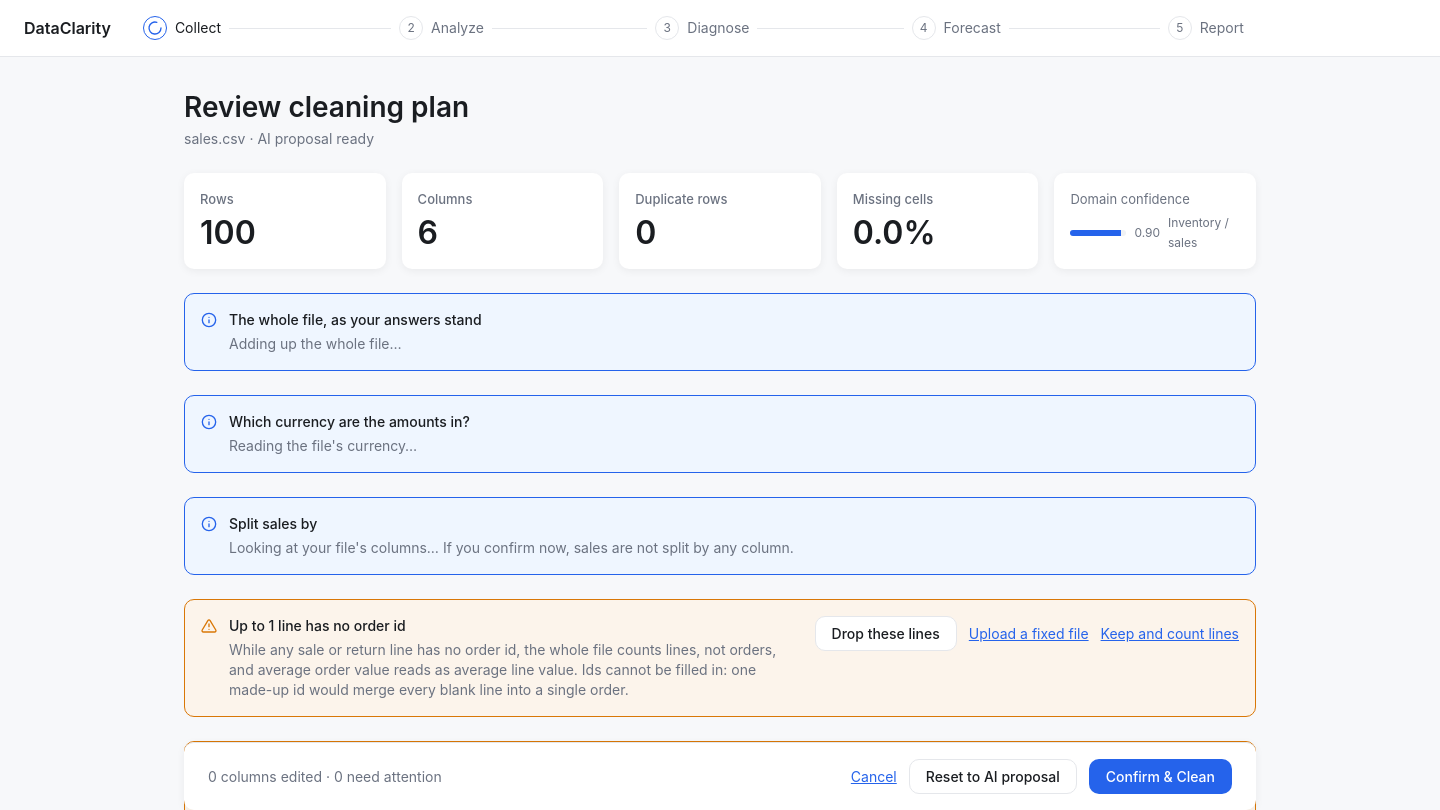
Test: ReviewPage: the fill question › does not promise a fill while kept lines have no id (cycle 3 F4)
The image size is (1440, 810).
Click the button "Keep and count lines".
click(1170, 634)  # box [1101,624,1239,644]
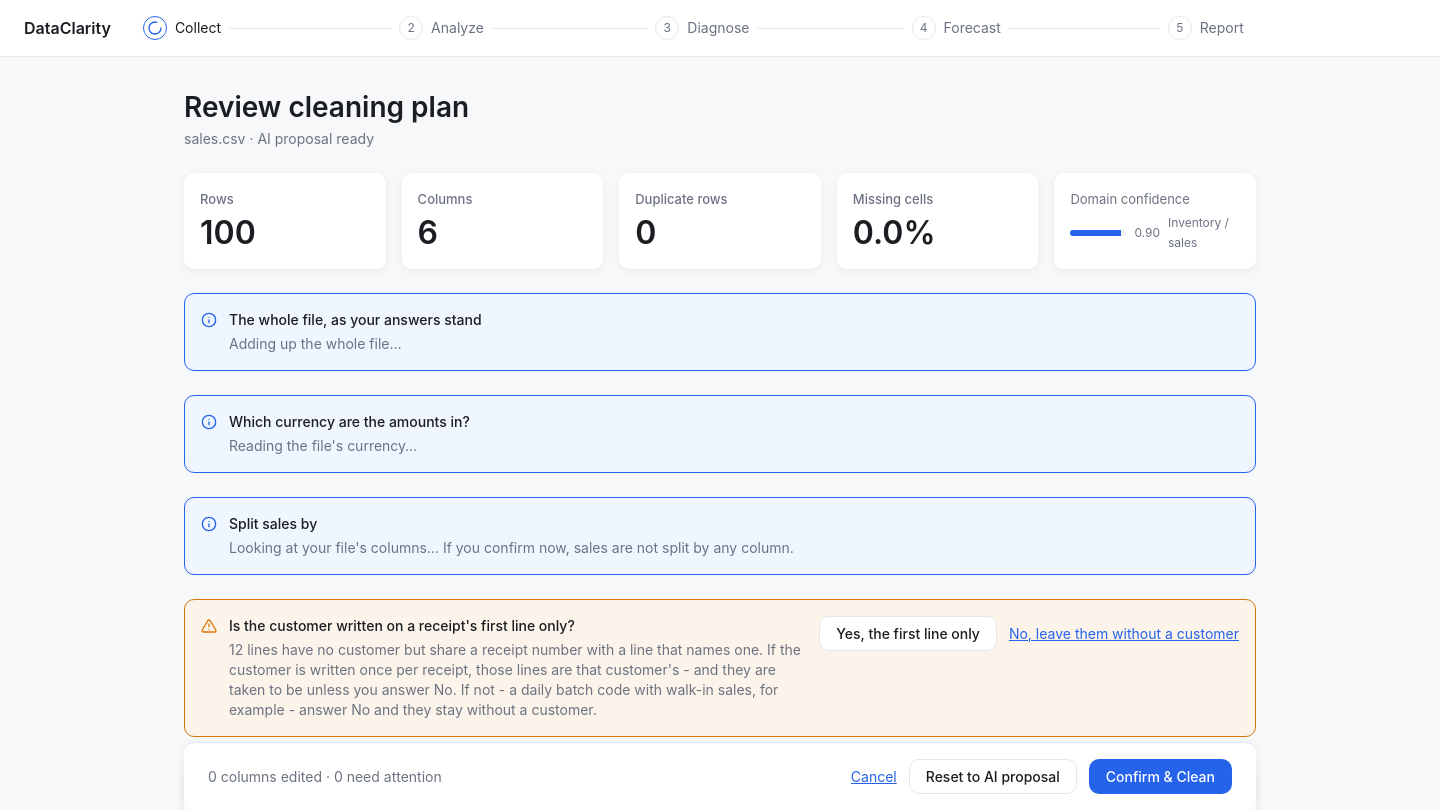
Click the button "Yes, the first line only".
click(908, 634)  # box [819,616,997,651]
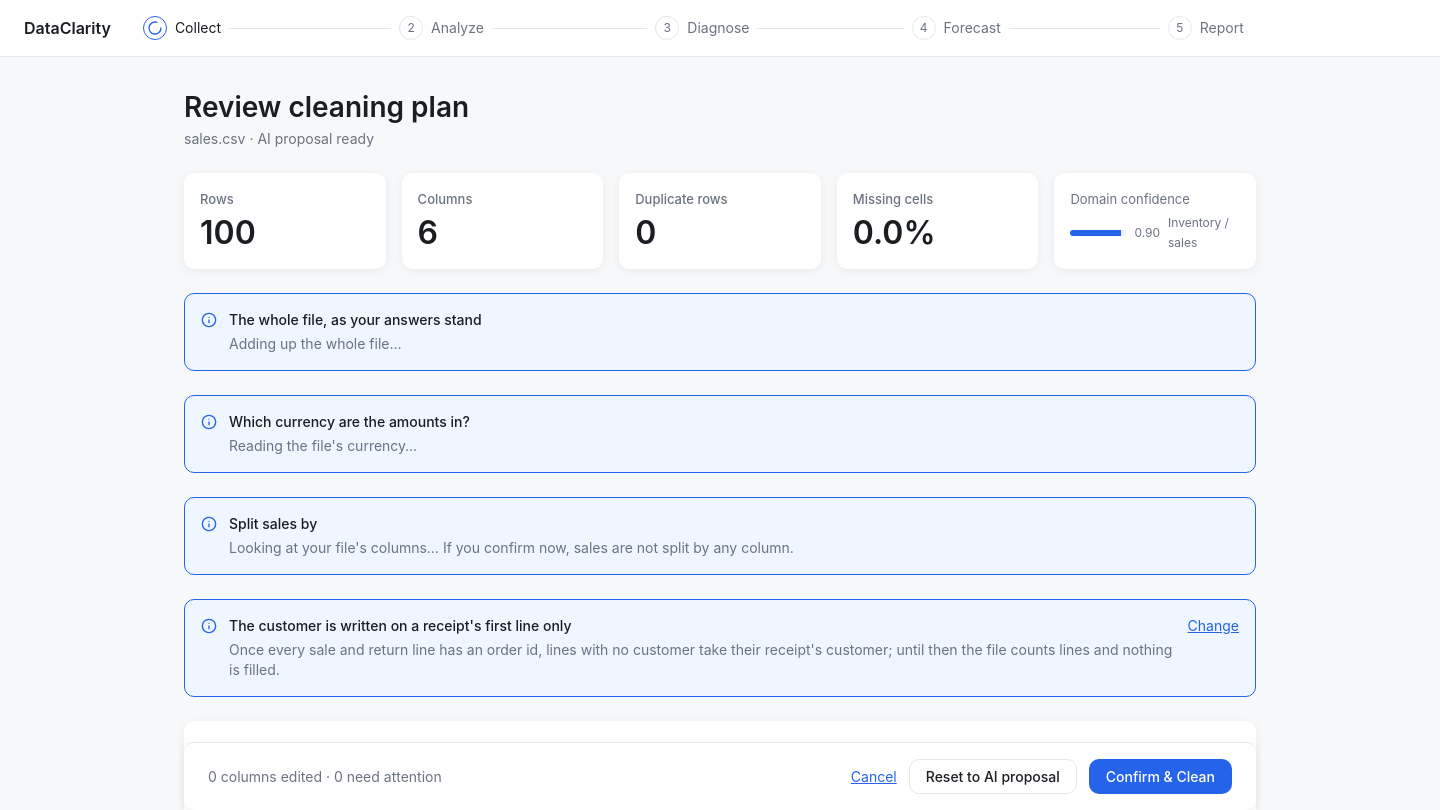
Now the text "until then the file counts lines and nothing is filled" is shown, box [229,641,1172,678]
